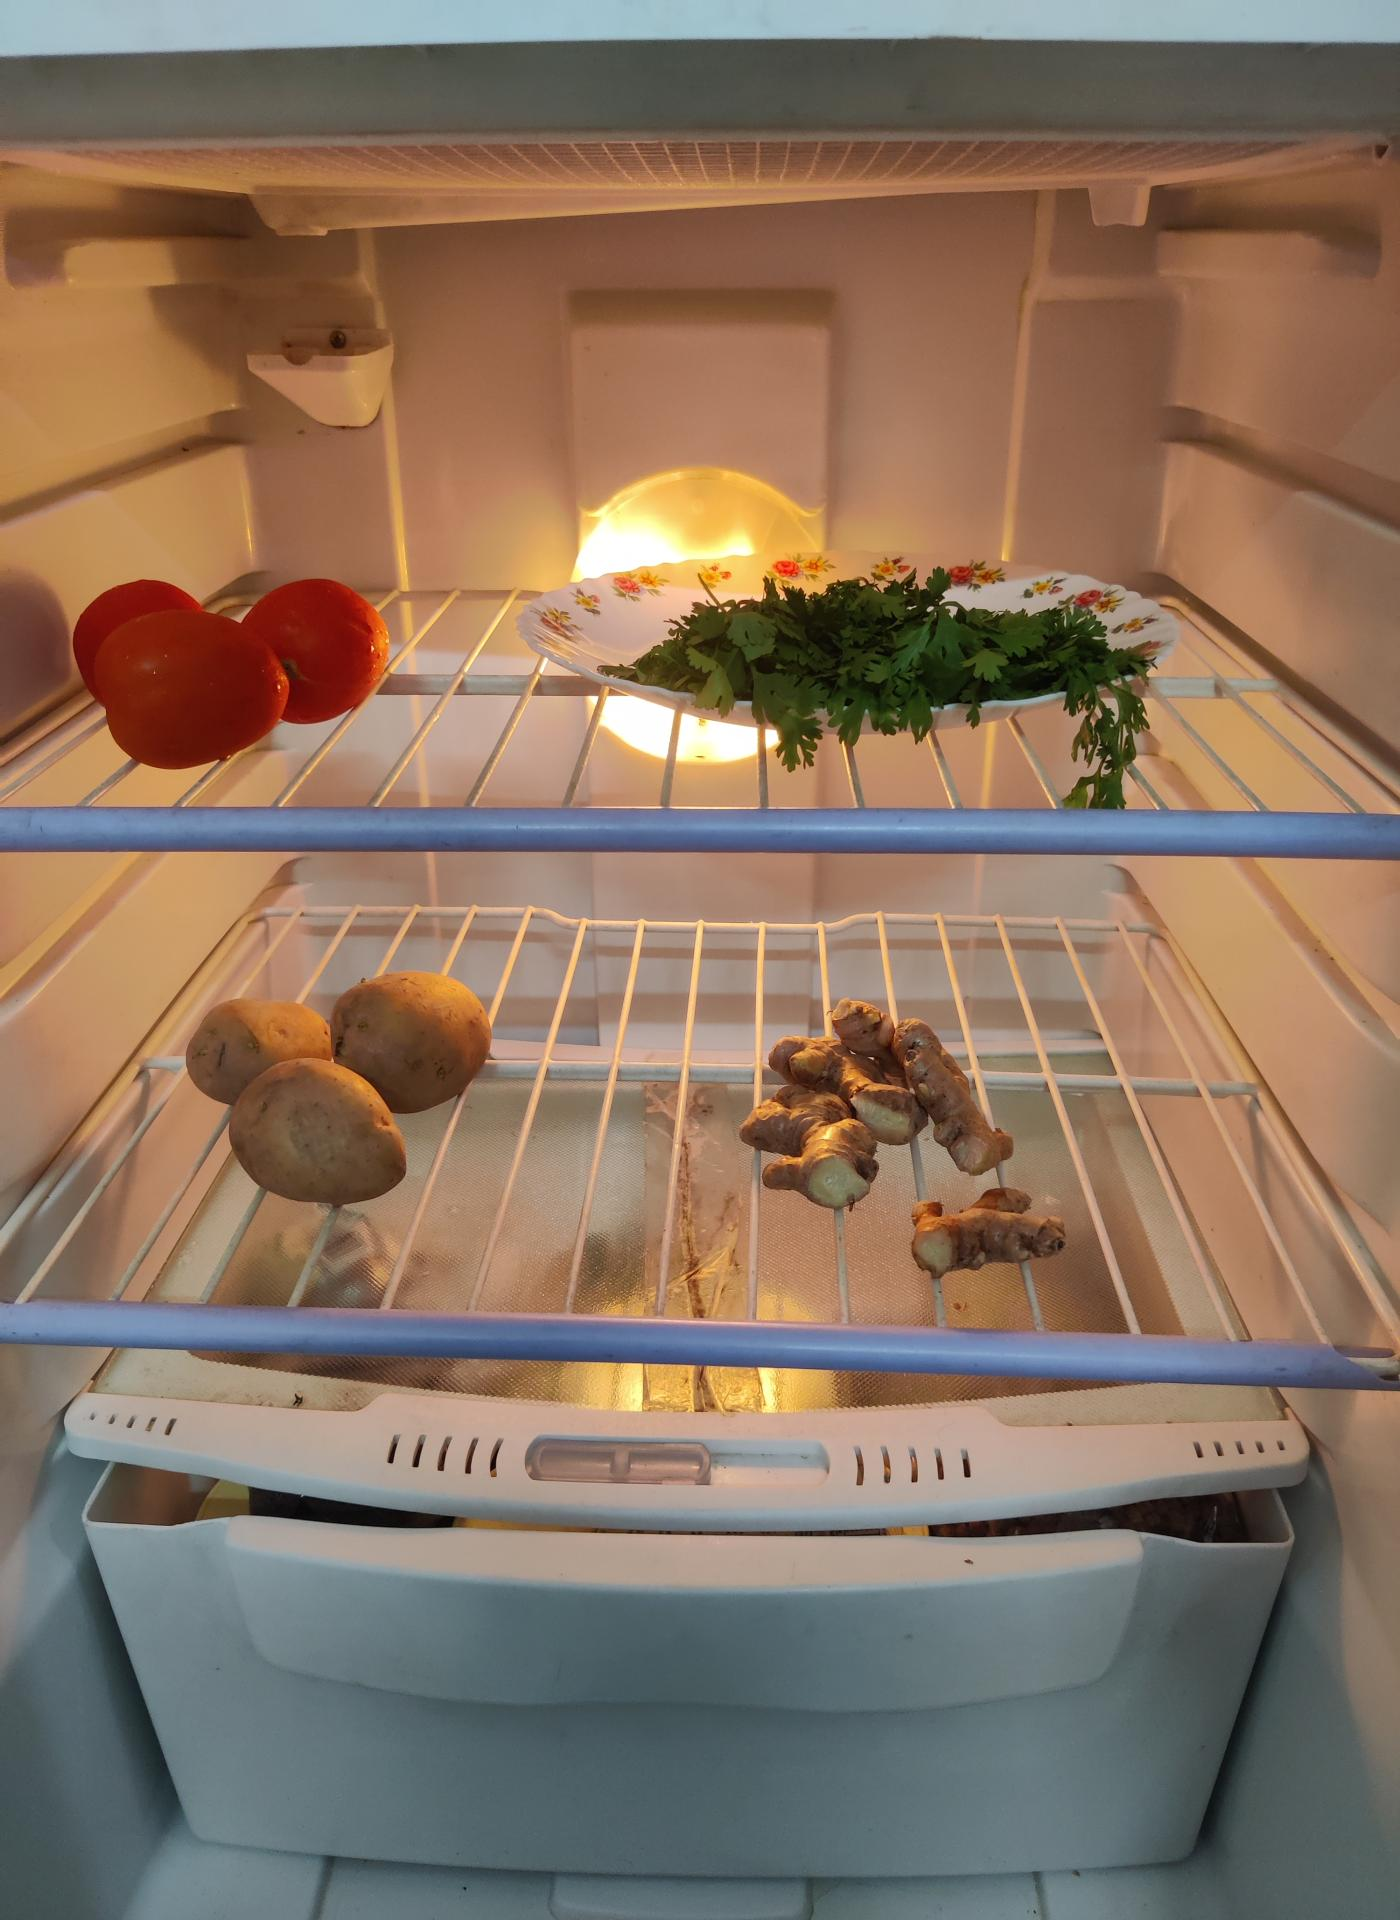coriander: (620, 569, 1160, 733)
ginger: (759, 1018, 1018, 1187)
potato: (186, 963, 485, 1204)
tomato: (75, 575, 388, 765)
